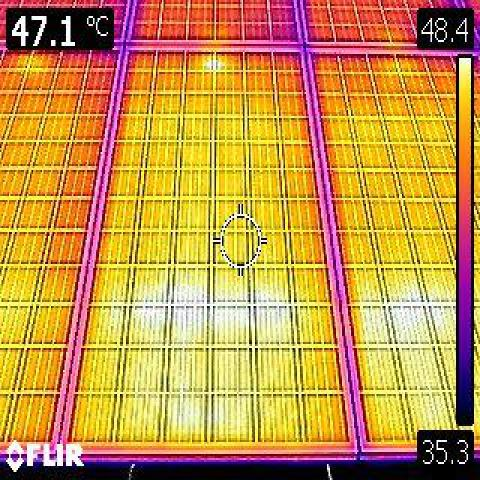fault: (122, 285, 300, 325), (388, 292, 430, 340), (203, 51, 222, 67)
